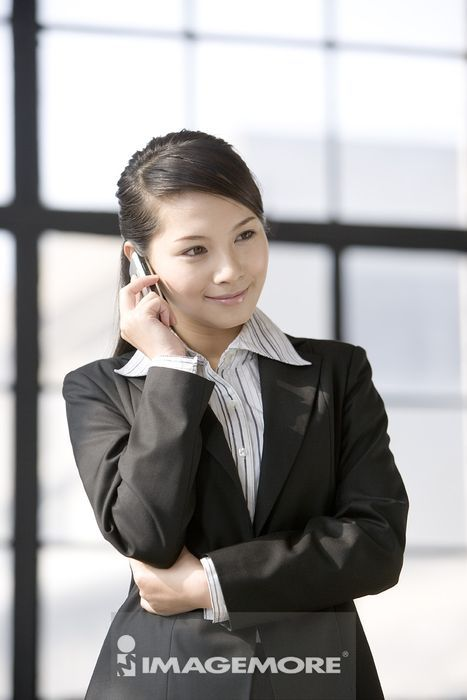phone: (130, 257, 163, 311)
talk: (118, 208, 269, 365)
